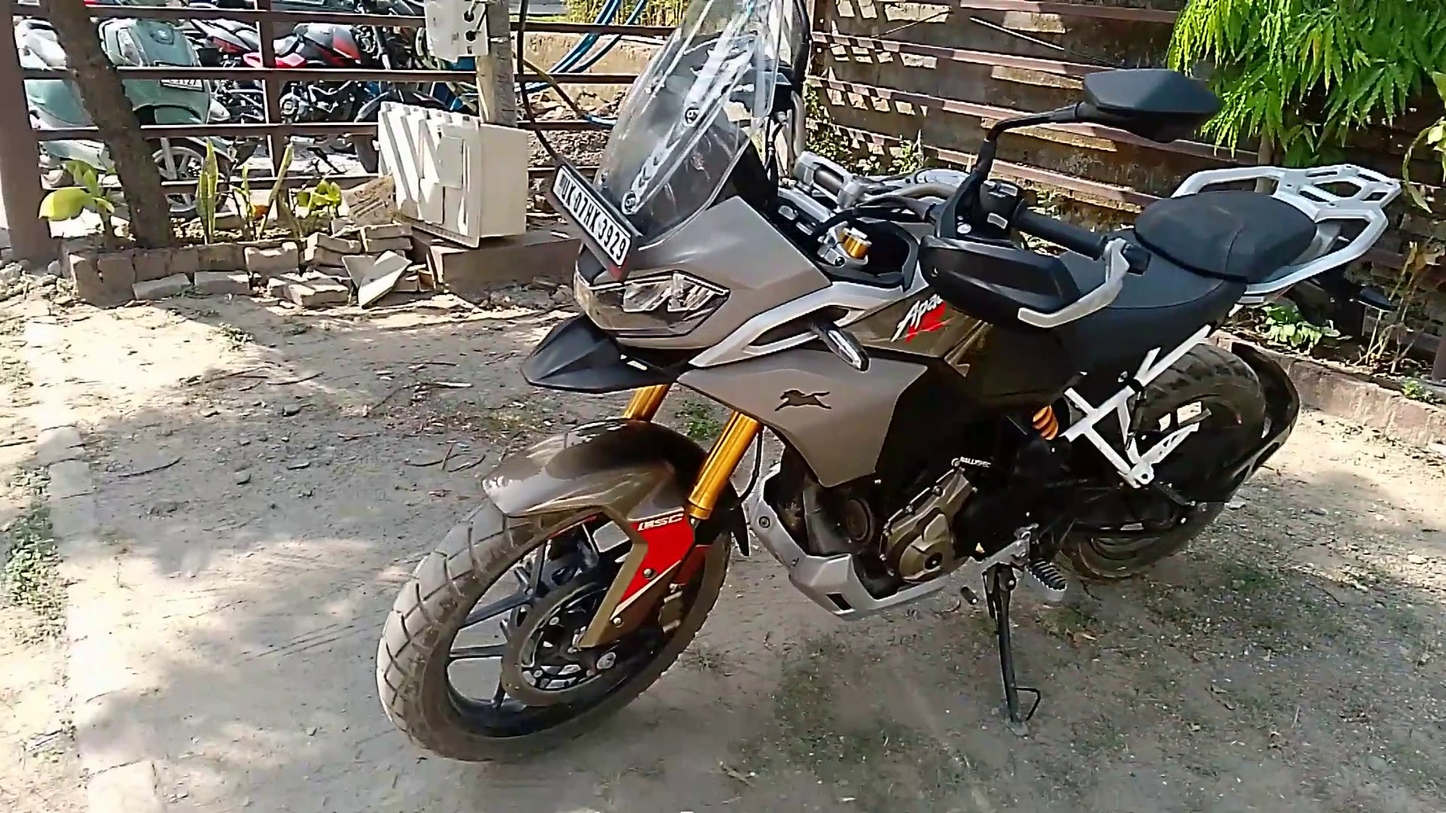engine-casing-left: (885, 471, 974, 579)
side-stand: (988, 567, 1041, 736)
